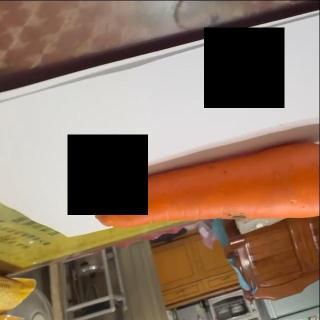carrot: (94, 141, 320, 229)
